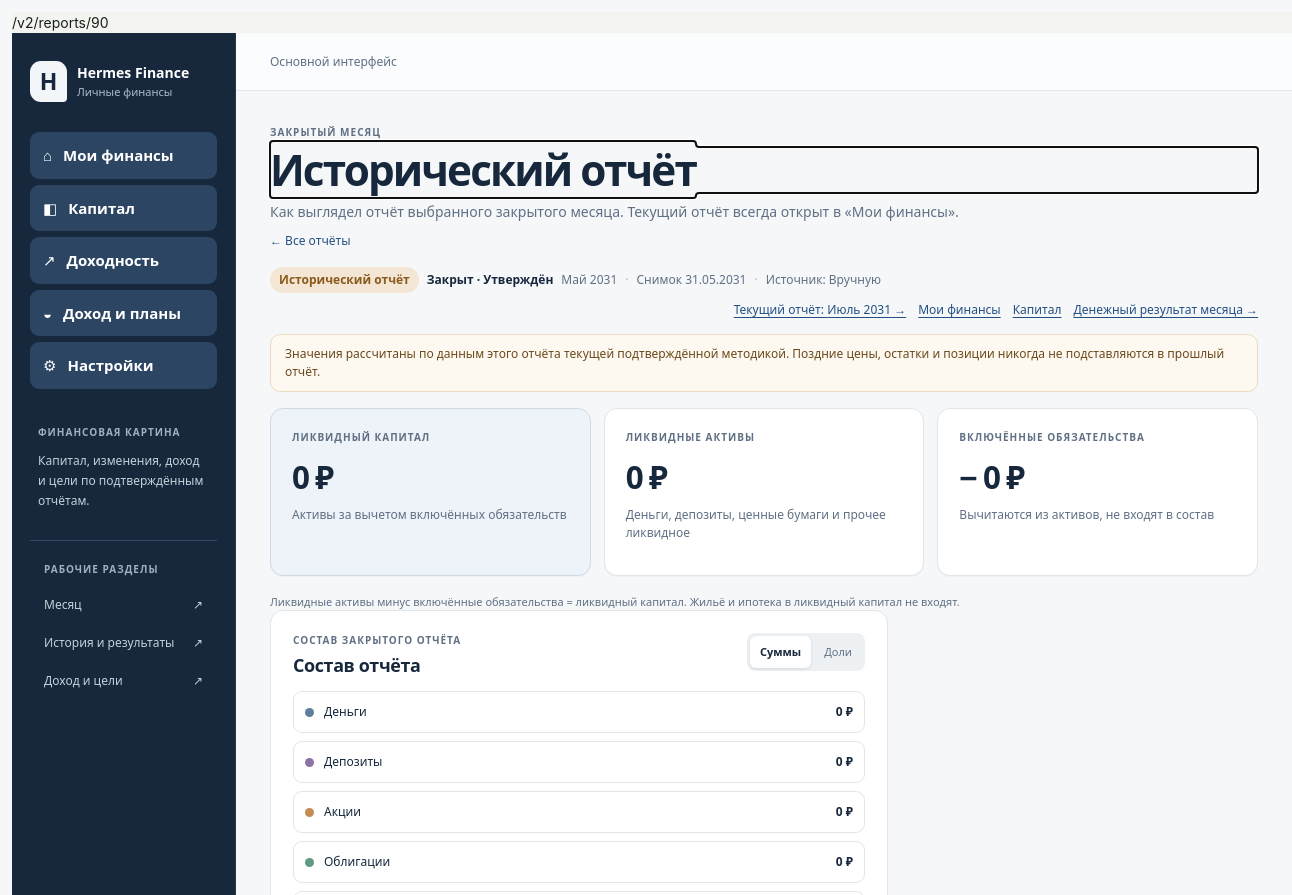
Test: UI v2 historical report › shows a genuine zero report as zero without inventing shares
The width and height of the screenshot is (1292, 895).
Expected: the text with test id "report-net" reads "0 ₽", 292,455 -> 333,498
Expected: the list item with test id "report-class-cash" shows "0 ₽", 836,703 -> 853,720
Click the button "Доли" at point(838, 652), box 814,636 -> 862,668
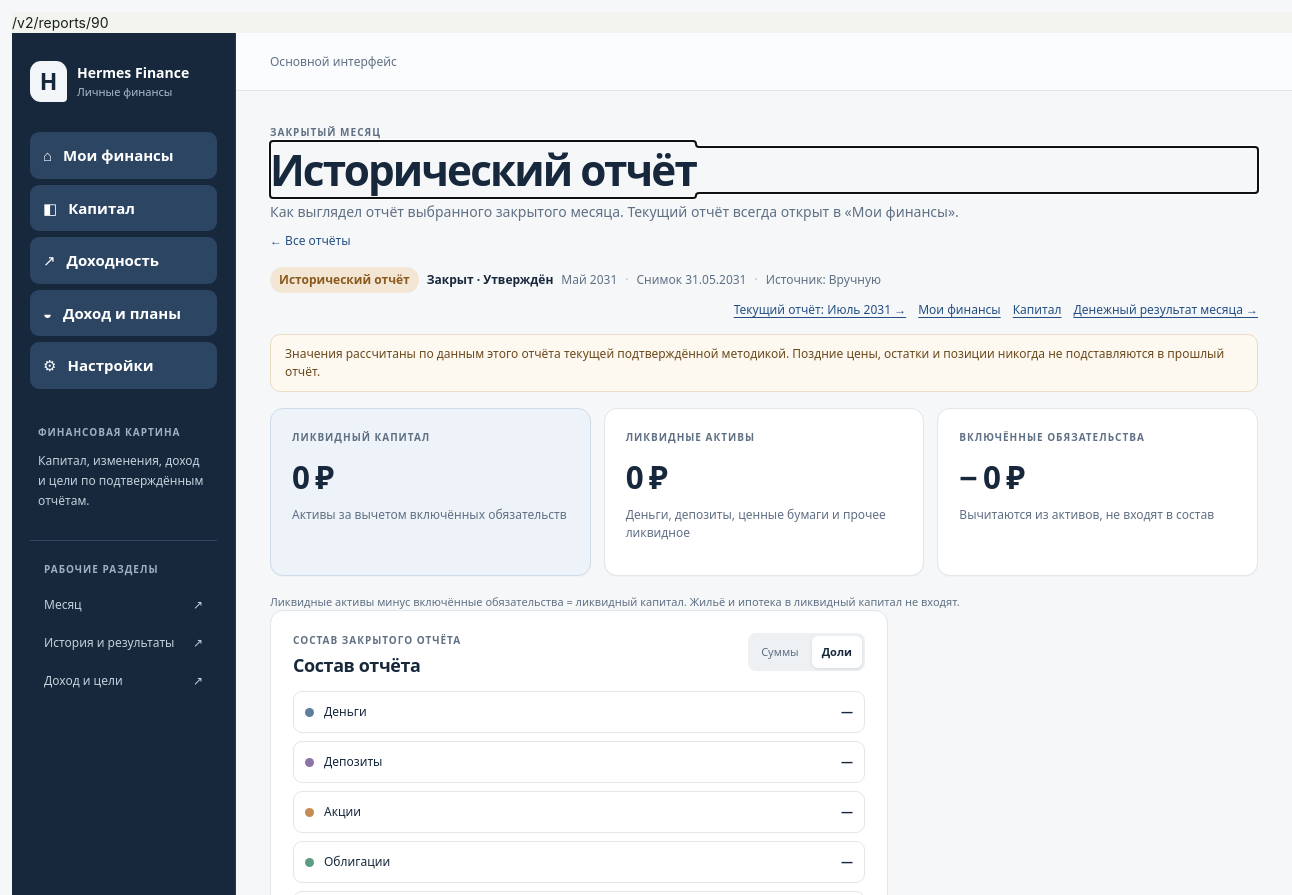
Result: the list item with test id "report-class-cash" shows "—" at 841,703 -> 853,720
